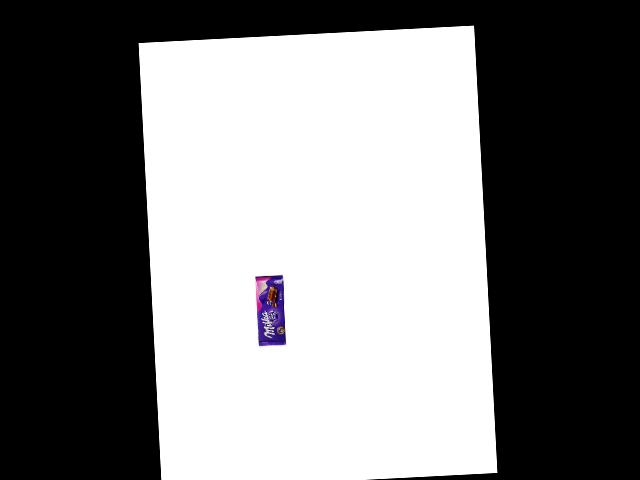chocolate: (254, 275, 287, 346)
